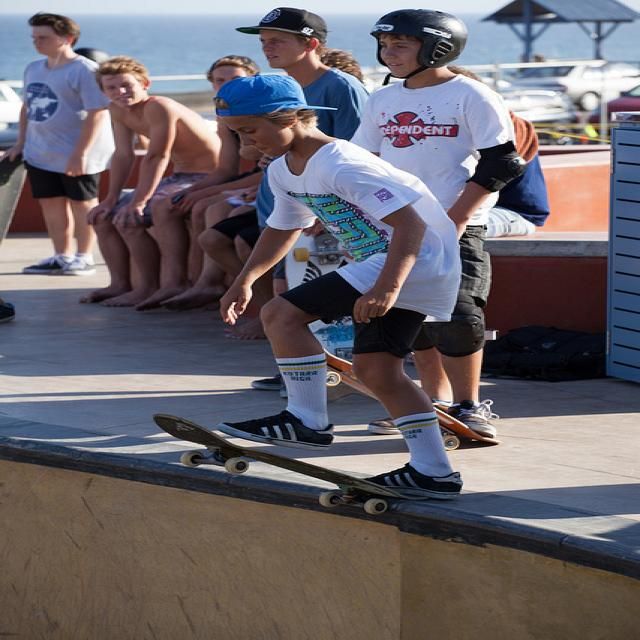Vehicle: (503, 64, 639, 112), (501, 91, 577, 147), (610, 82, 640, 112), (612, 111, 640, 125)
